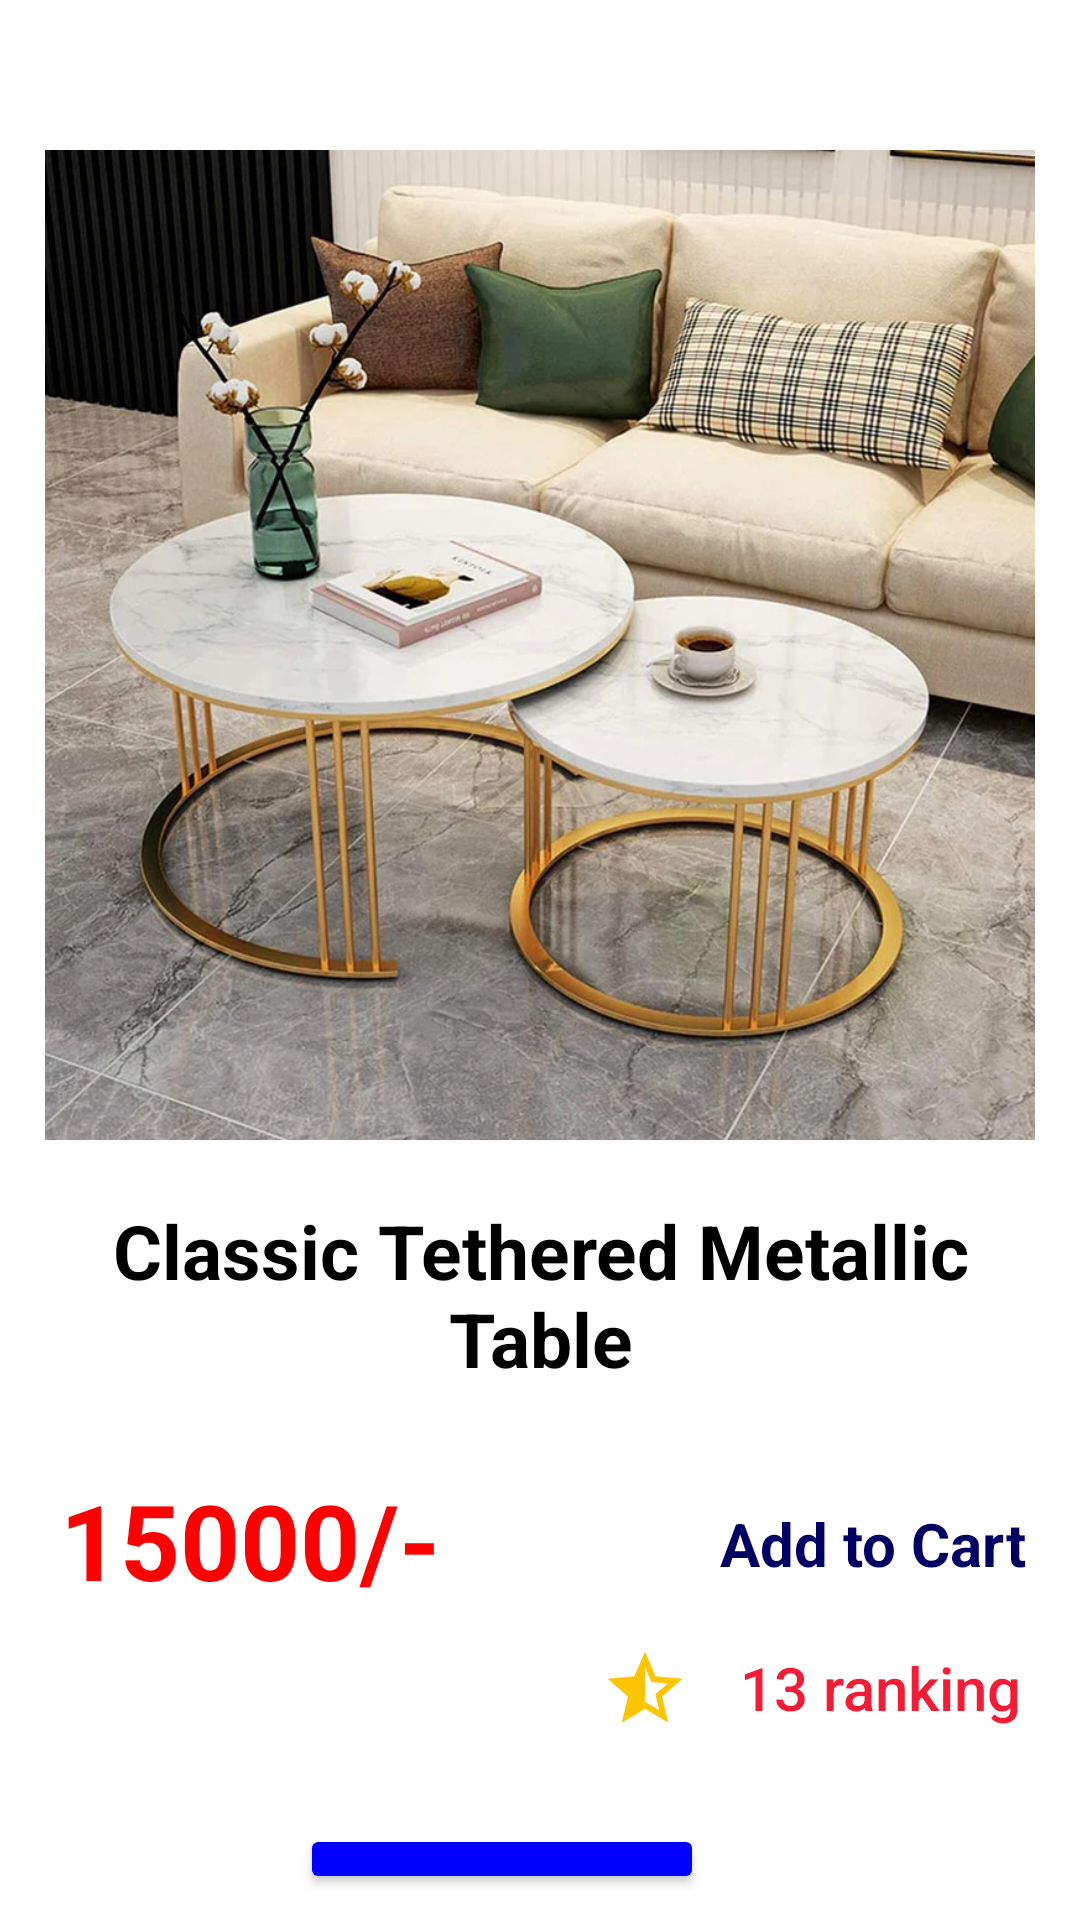

Where icons sit on this 1080*1920 app screen, as (x1, y1, x2, y2):
starhalf: (608, 1652, 682, 1723)
